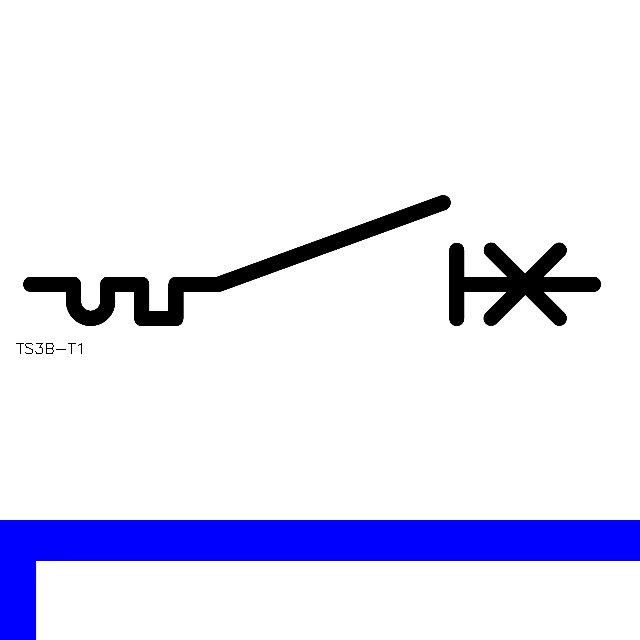interruptor_termomagnetico: (16, 188, 608, 333)
